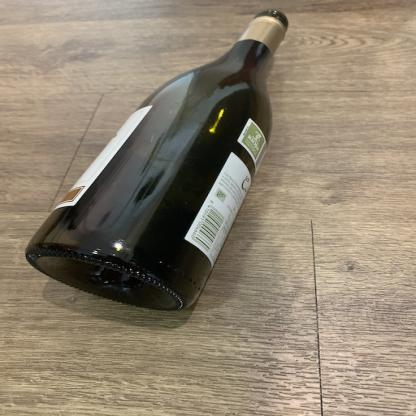trash: (20, 9, 292, 319)
